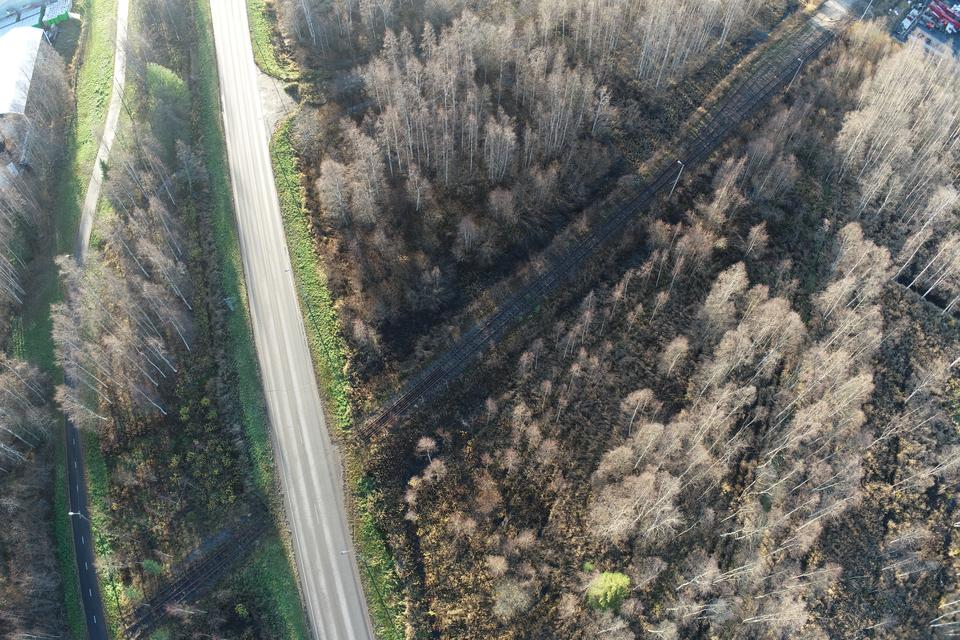intersection: (190, 46, 337, 157)
